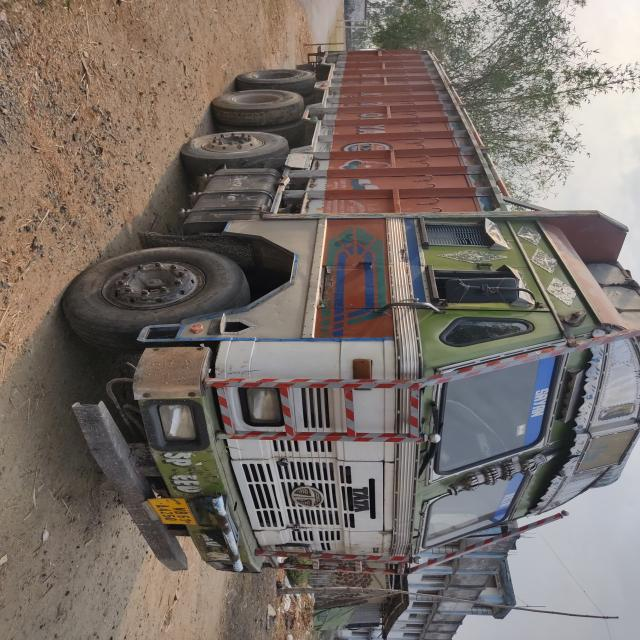Truck: (49, 38, 639, 590)
